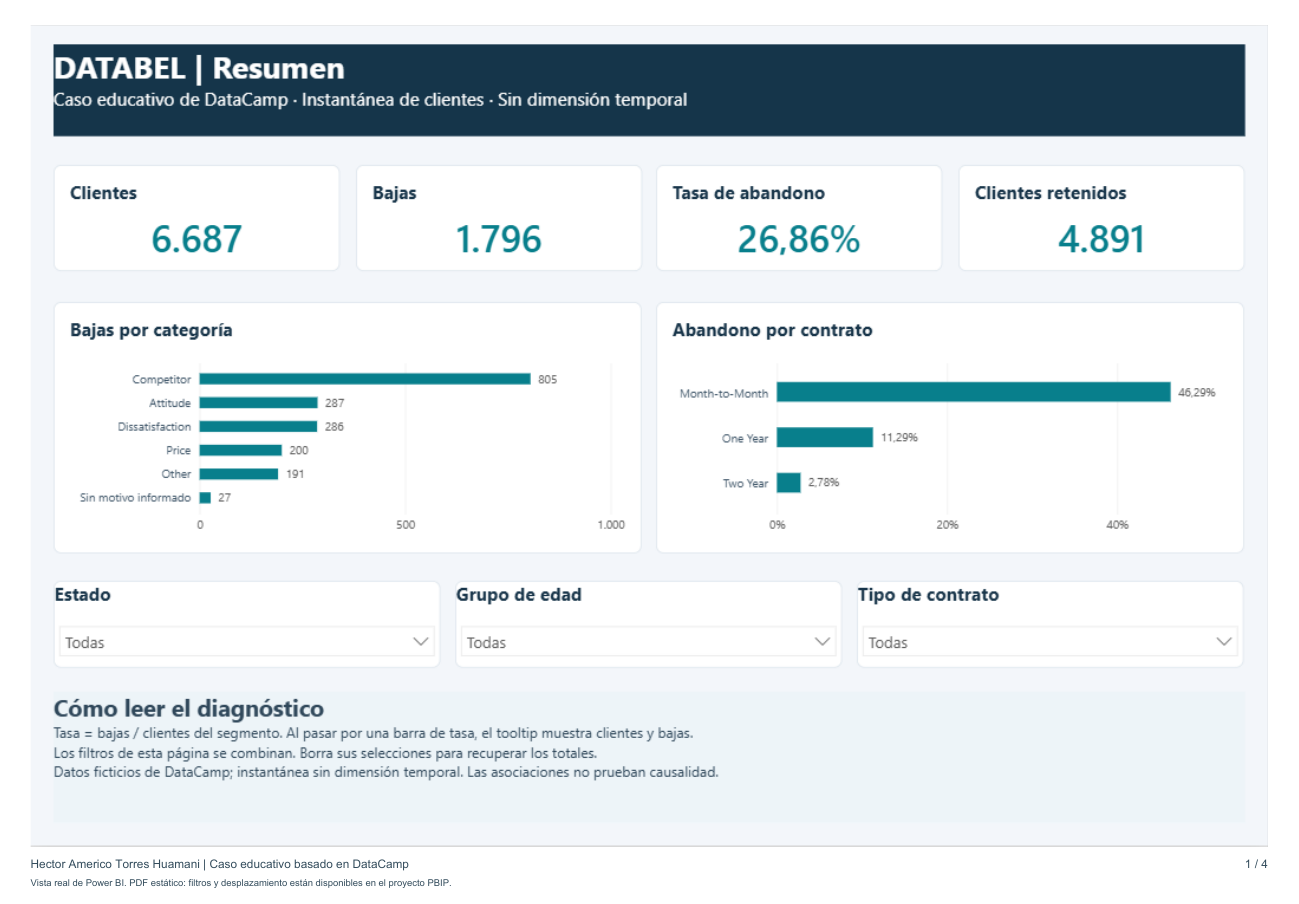

Layout of this report page (visuals, bound fields, positions):
{"tool":"powerbi","page":{"name":"Resumen","canvas":[1280,850],"ordinal":0},"visuals":[{"type":"textbox","box":[24,20,1232,95],"z":0},{"type":"textbox","box":[24,690,1232,135],"z":0},{"type":"card","title":"Clientes","fields":{"Values":["Databel - Data.Clientes"]},"box":[24,145,296,110],"z":1000},{"type":"card","title":"Bajas","fields":{"Values":["Databel - Data.Bajas"]},"box":[336,145,296,110],"z":1000},{"type":"card","title":"Tasa de abandono","fields":{"Values":["Databel - Data.Tasa de abandono"]},"box":[648,145,296,110],"z":1000},{"type":"card","title":"Clientes retenidos","fields":{"Values":["Databel - Data.Clientes retenidos"]},"box":[960,145,296,110],"z":1000},{"type":"clusteredBarChart","title":"Bajas por categoría","fields":{"Category":["Databel - Data.Categoria de abandono"],"Y":["Databel - Data.Bajas"]},"box":[24,285,608,260],"z":1000},{"type":"clusteredBarChart","title":"Abandono por contrato","fields":{"Category":["Databel - Data.Contract Type"],"Y":["Databel - Data.Tasa de abandono"]},"box":[648,285,608,260],"z":1000},{"type":"slicer","title":"Estado","fields":{"Values":["Databel - Data.State"]},"box":[24,575,400,90],"z":1000},{"type":"slicer","title":"Grupo de edad","fields":{"Values":["Databel - Data.Grupo de edad"]},"box":[440,575,400,90],"z":1000},{"type":"slicer","title":"Tipo de contrato","fields":{"Values":["Databel - Data.Contract Type"]},"box":[856,575,400,90],"z":1000}]}

Visuals, with their boxes on the page's 1280x850 design canvas (x1, y1, x2, y2). These are canvas units, not pixel positions in the 1299x904 screenshot, which may show the page scaled, cropped or inside an application window:
textbox: x1=24, y1=20, x2=1256, y2=115
textbox: x1=24, y1=690, x2=1256, y2=825
"Clientes" card: x1=24, y1=145, x2=320, y2=255
"Bajas" card: x1=336, y1=145, x2=632, y2=255
"Tasa de abandono" card: x1=648, y1=145, x2=944, y2=255
"Clientes retenidos" card: x1=960, y1=145, x2=1256, y2=255
"Bajas por categoría" clusteredBarChart: x1=24, y1=285, x2=632, y2=545
"Abandono por contrato" clusteredBarChart: x1=648, y1=285, x2=1256, y2=545
"Estado" slicer: x1=24, y1=575, x2=424, y2=665
"Grupo de edad" slicer: x1=440, y1=575, x2=840, y2=665
"Tipo de contrato" slicer: x1=856, y1=575, x2=1256, y2=665
